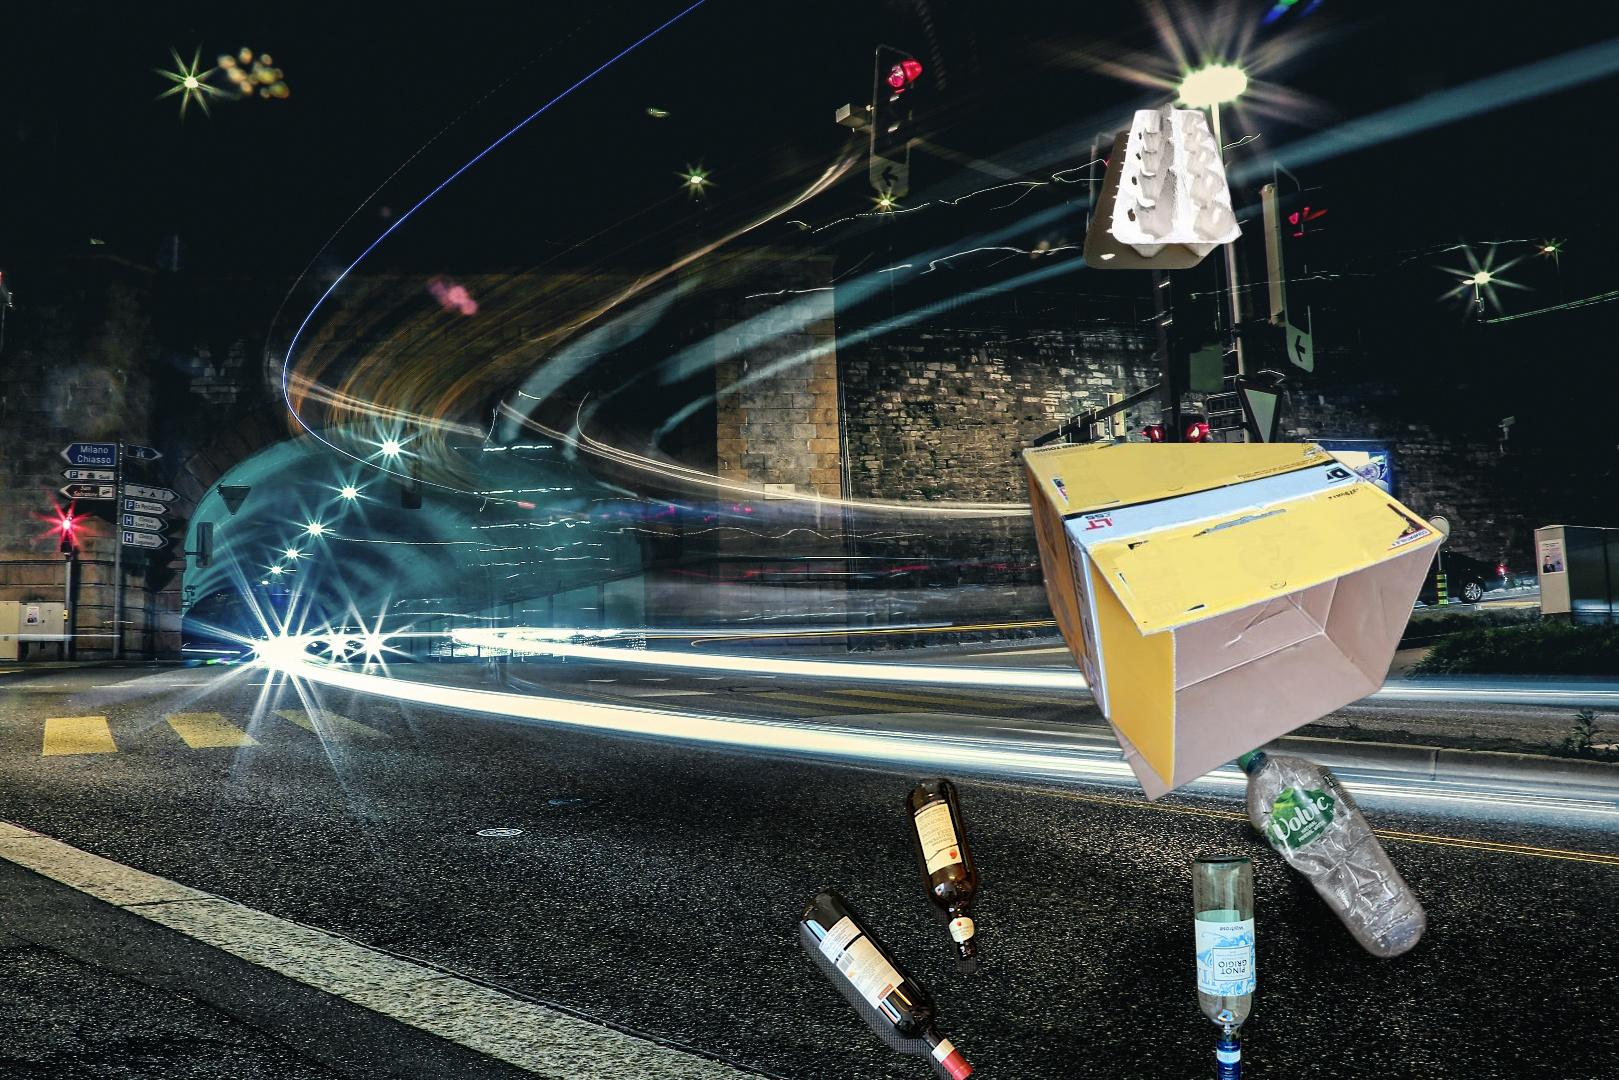glass: (675, 777, 982, 1080), (1187, 849, 1260, 1080)
plastic-bottles: (1233, 738, 1433, 965), (1095, 522, 1260, 700)
trash: (1617, 575, 1619, 739)
trashbox-cardboard: (1016, 444, 1451, 805), (1080, 98, 1246, 272)
